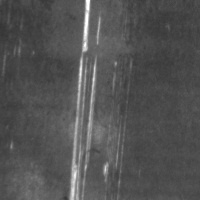scratches: (68, 0, 100, 199), (101, 139, 127, 193)
